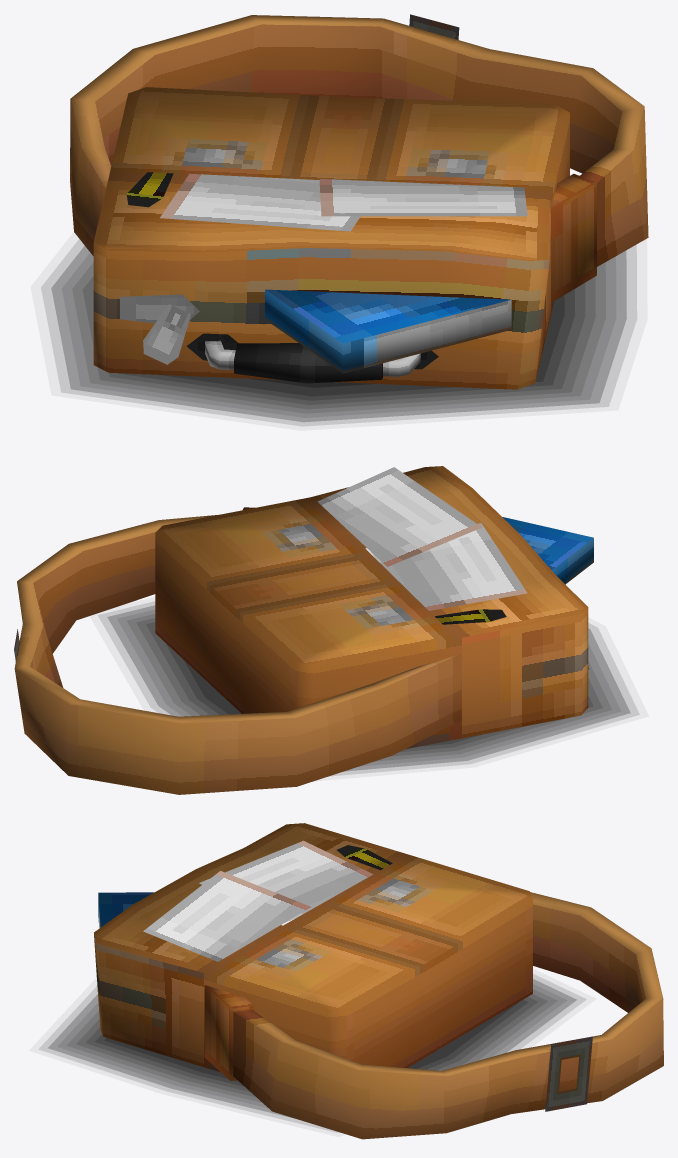
The model's file is Bag.glb.
The picture shows the model from 3 angles, top to bottom: view 1: azimuth 30°, elevation 25°; view 2: azimuth 150°, elevation 25°; view 3: azimuth 270°, elevation 25°; orthographic projection. The views are drawn at different scales.
Visible parts, largest first — view 1: Birch's_Bag; view 2: Birch's_Bag; view 3: Birch's_Bag.
Part boxes in pixels (x1,y1,x2,y2): Birch's_Bag: (41,14,648,426); Birch's_Bag: (14,466,639,794); Birch's_Bag: (39,823,663,1139).
Bounding box in the file's own units: 0.6656 × 0.1386 × 0.7165.
Materials: 2 (2 with a texture image).
